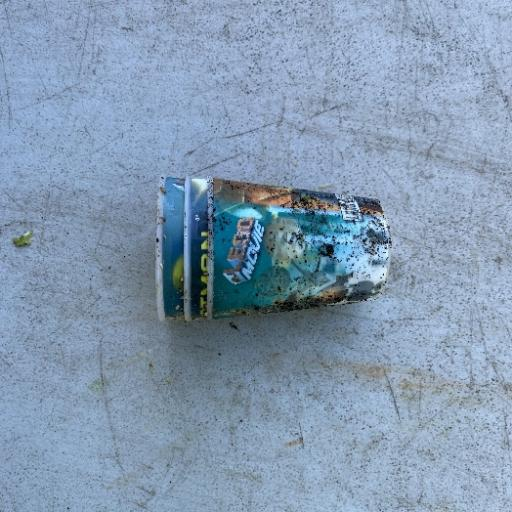Plastic: (152, 173, 392, 323)
